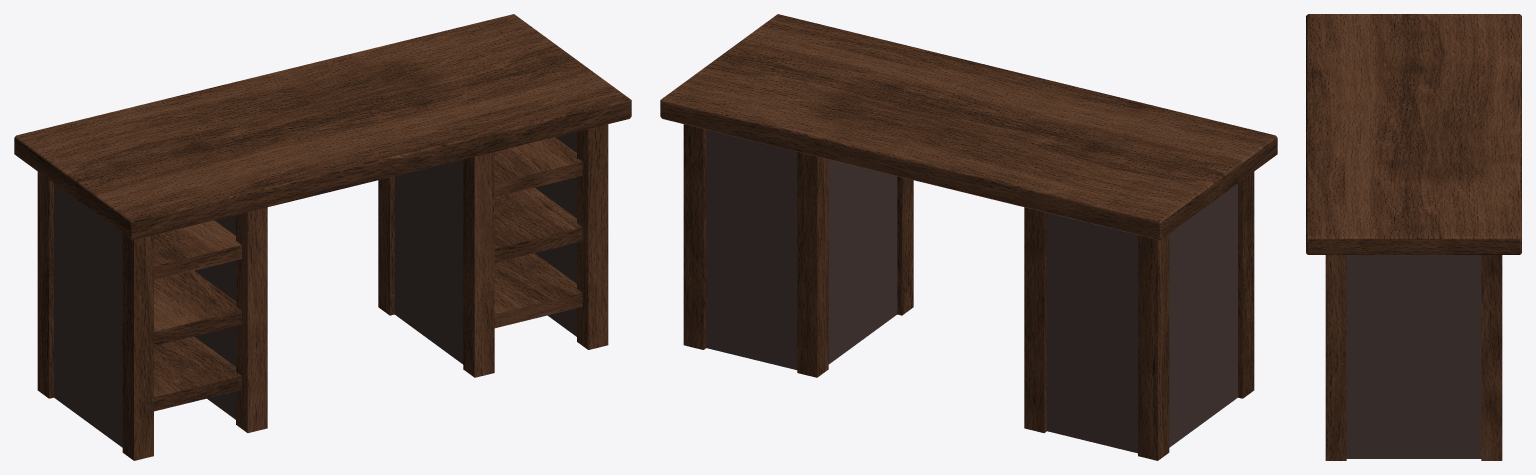
File: work_table_008.fbx
The picture shows the model from 3 angles, left to right: view 1: azimuth 30°, elevation 25°; view 2: azimuth 150°, elevation 25°; view 3: azimuth 270°, elevation 25°; orthographic projection. The views are drawn at different scales.
Parts seen in each view (by area): view 1: work_table_008; view 2: work_table_008; view 3: work_table_008.
Boxes of the visible parts, x1,y1,x2,y2 form: work_table_008: [14, 14, 631, 460]; work_table_008: [660, 14, 1277, 460]; work_table_008: [1306, 14, 1521, 460].
Bounding box in the file's own units: 192 × 78.11 × 91.76.
